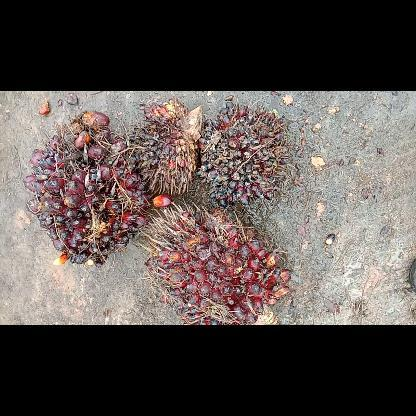Kurang masak: (23, 112, 149, 266)
TBS abnormal: (196, 101, 298, 206), (132, 99, 202, 193)
TBS masak: (141, 198, 290, 324)
